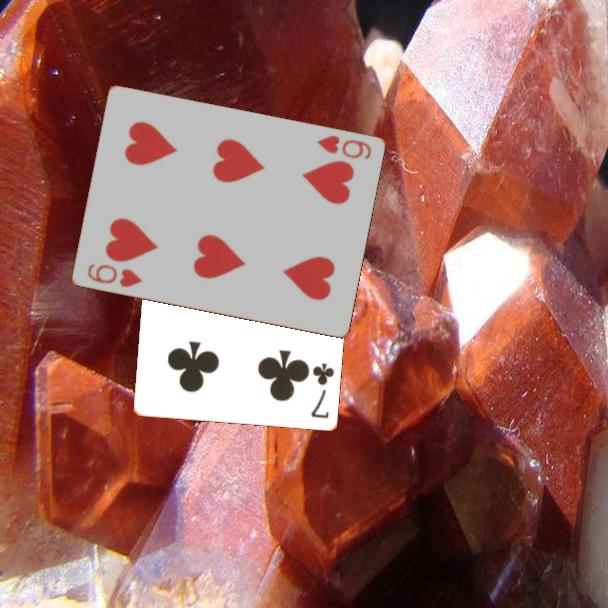c07: (307, 359, 337, 421)
h06: (313, 132, 374, 163), (83, 260, 145, 290)
